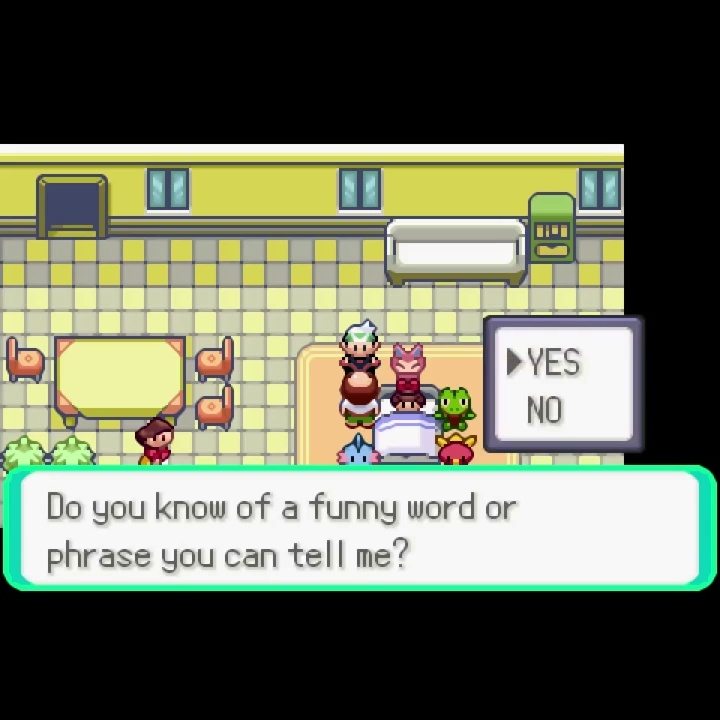agent: (337, 315, 383, 375)
npc: (338, 371, 384, 430), (134, 415, 178, 465)
